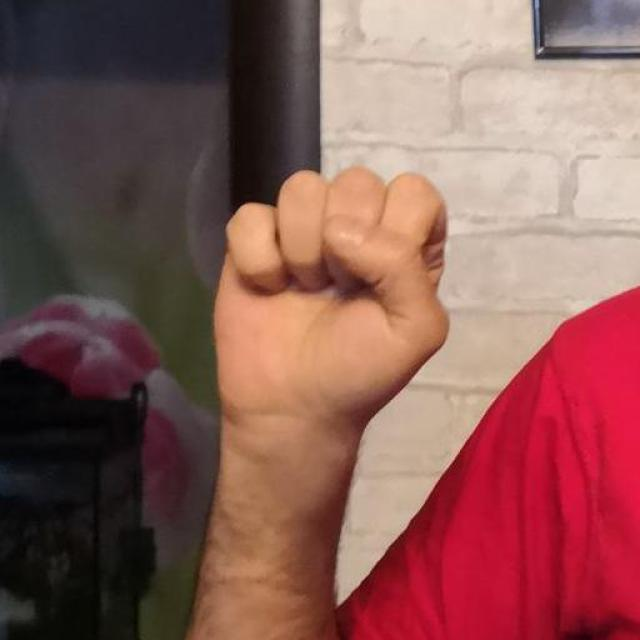hand: (210, 164, 450, 432)
